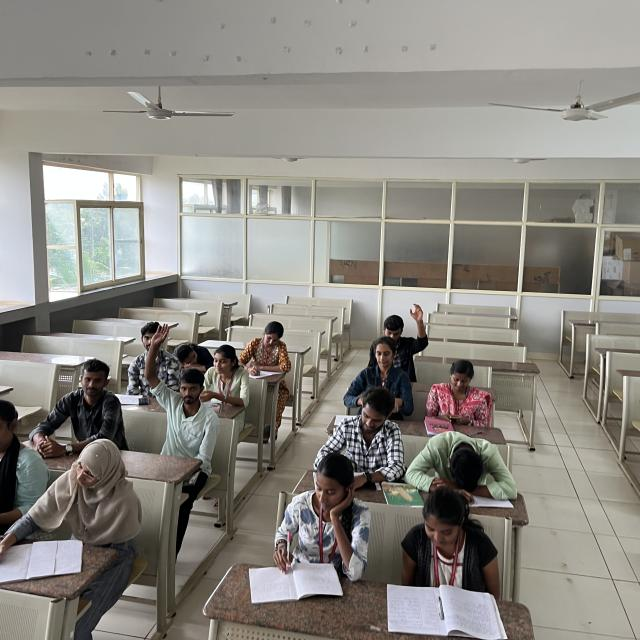Hand Rising: (142, 324, 225, 478), (374, 298, 447, 370)
Reading: (383, 486, 520, 640), (26, 443, 146, 599), (306, 394, 409, 486)
Sleeping: (404, 420, 528, 497), (170, 322, 225, 373)
Using Phone: (421, 362, 520, 434)
Writing: (251, 459, 367, 636), (244, 317, 297, 383)
